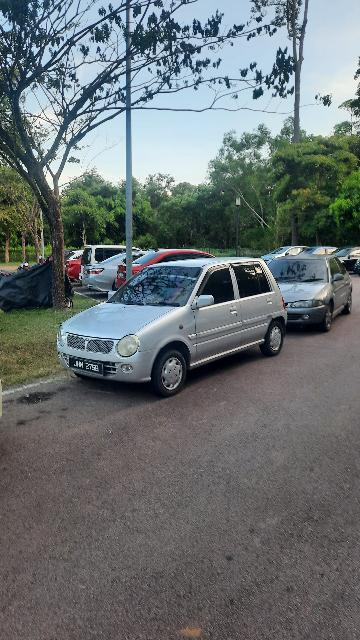License_Plate: (68, 356, 107, 380)
car: (58, 251, 288, 397)
